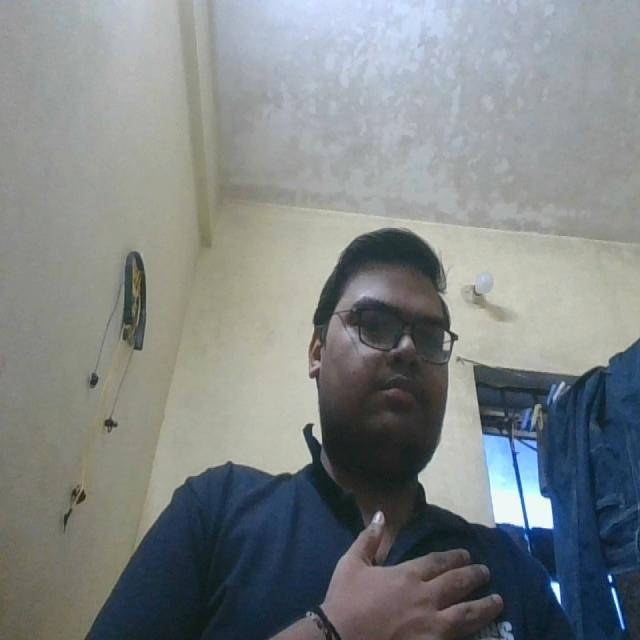Please: (310, 503, 508, 640)
